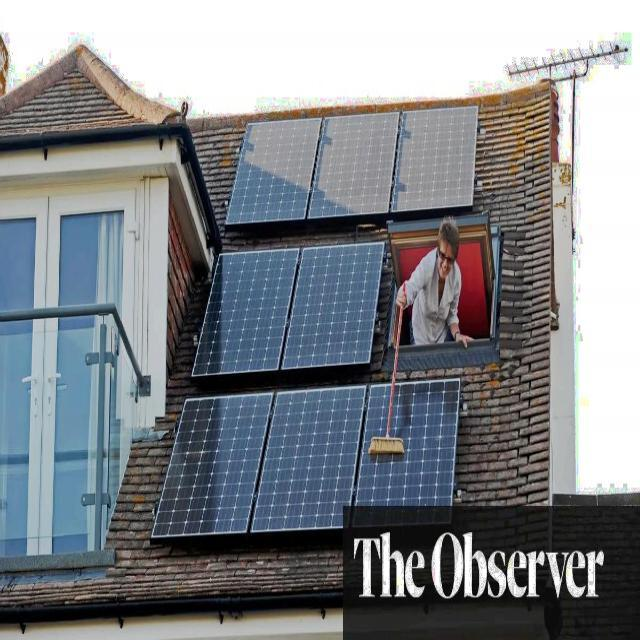faulty: (305, 107, 402, 228), (387, 101, 482, 217), (229, 113, 323, 229)
no faulty: (250, 377, 372, 541), (152, 392, 269, 542), (353, 373, 464, 512), (278, 240, 383, 376), (191, 246, 298, 378)
